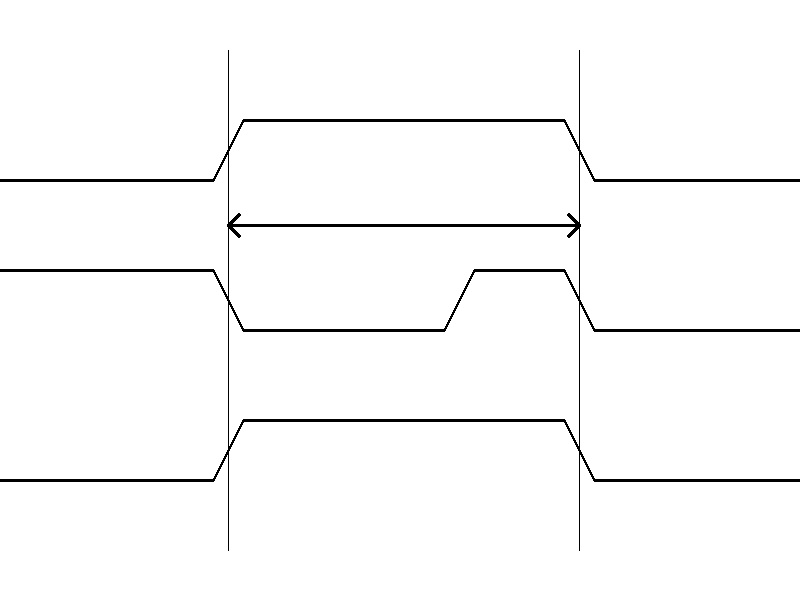double_arrow: (228, 210, 579, 240)
